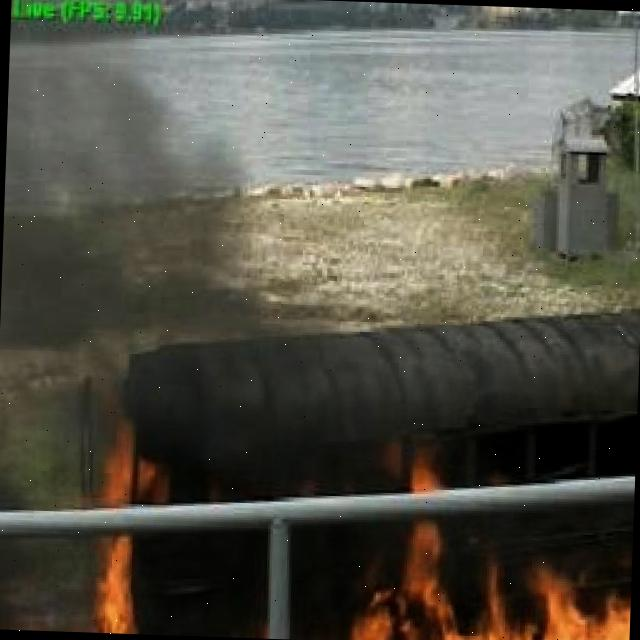fire: (343, 546, 632, 640), (81, 420, 193, 636), (375, 435, 465, 488)
